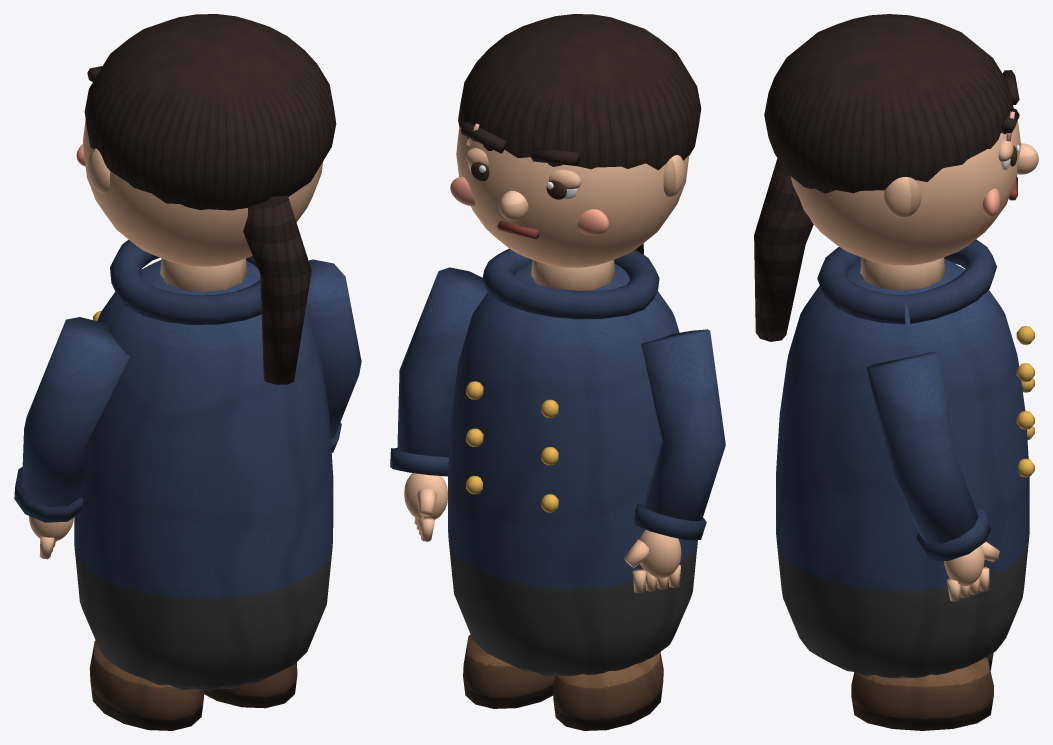
Rendered from renata.glb.
3 renders of one model, left to right at view 1: azimuth 30°, elevation 25°; view 2: azimuth 150°, elevation 25°; view 3: azimuth 270°, elevation 25°, orthographic. The views are drawn at different scales.
Visible parts, largest first — view 1: Body, Head; view 2: Body, Head; view 3: Body, Head.
Part boxes in pixels (left/top/right/bottom): Body: left=14, top=239, right=361, bottom=730; Head: left=76, top=14, right=336, bottom=384; Body: left=390, top=248, right=725, bottom=730; Head: left=450, top=14, right=701, bottom=267; Body: left=776, top=239, right=1034, bottom=730; Head: left=754, top=14, right=1038, bottom=341.
Bounding box in the file's own units: 0.8423 × 1.66 × 0.6487.
Materials: 1 (1 with a texture image).
